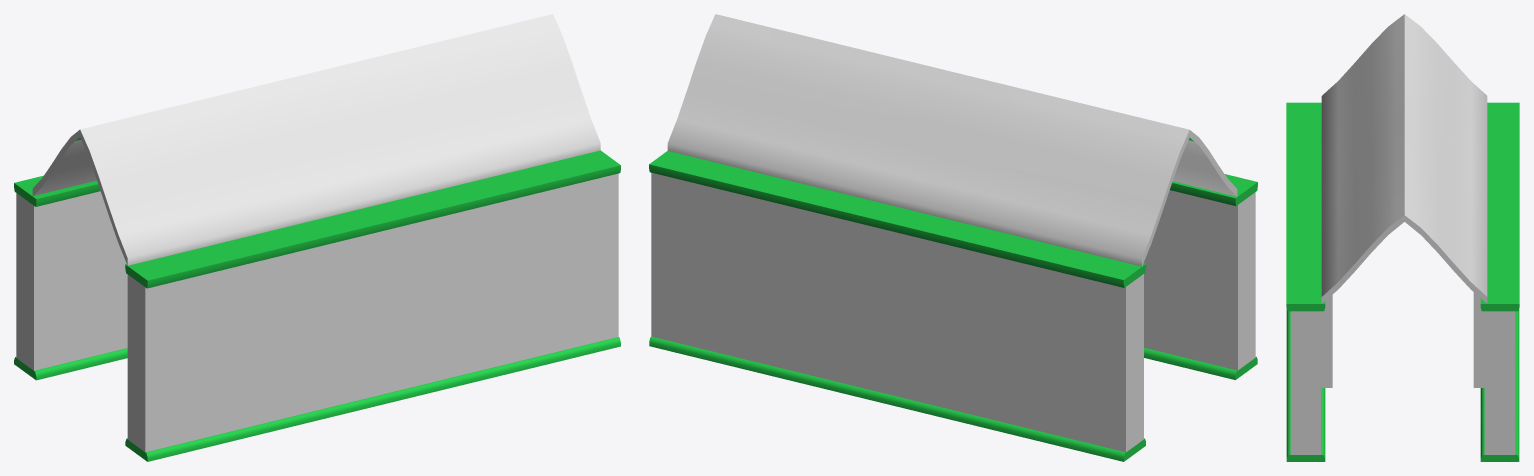
Rendered from Basic Hallway 05_NF.fbx.
3 views of the same model, side by side, from view 1: azimuth 30°, elevation 25°; view 2: azimuth 150°, elevation 25°; view 3: azimuth 270°, elevation 25° (orthographic). The views are drawn at different scales.
Parts seen in each view (by area): view 1: Plane_001; view 2: Plane_001; view 3: Plane_001.
Part boxes in pixels (box(x1,y1,x2,y2)): Plane_001: box(14, 14, 620, 461); Plane_001: box(649, 14, 1257, 461); Plane_001: box(1286, 14, 1519, 461).
Size of the model in its own units: 1258 by 719 by 615.
